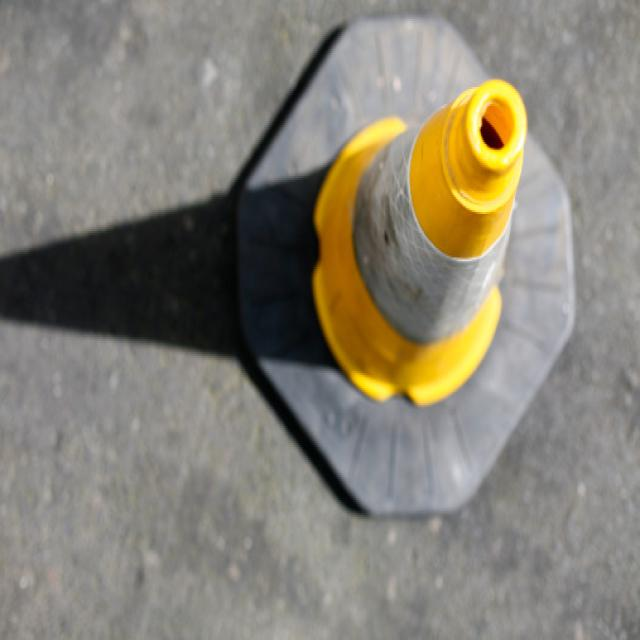cone: (272, 42, 556, 494)
